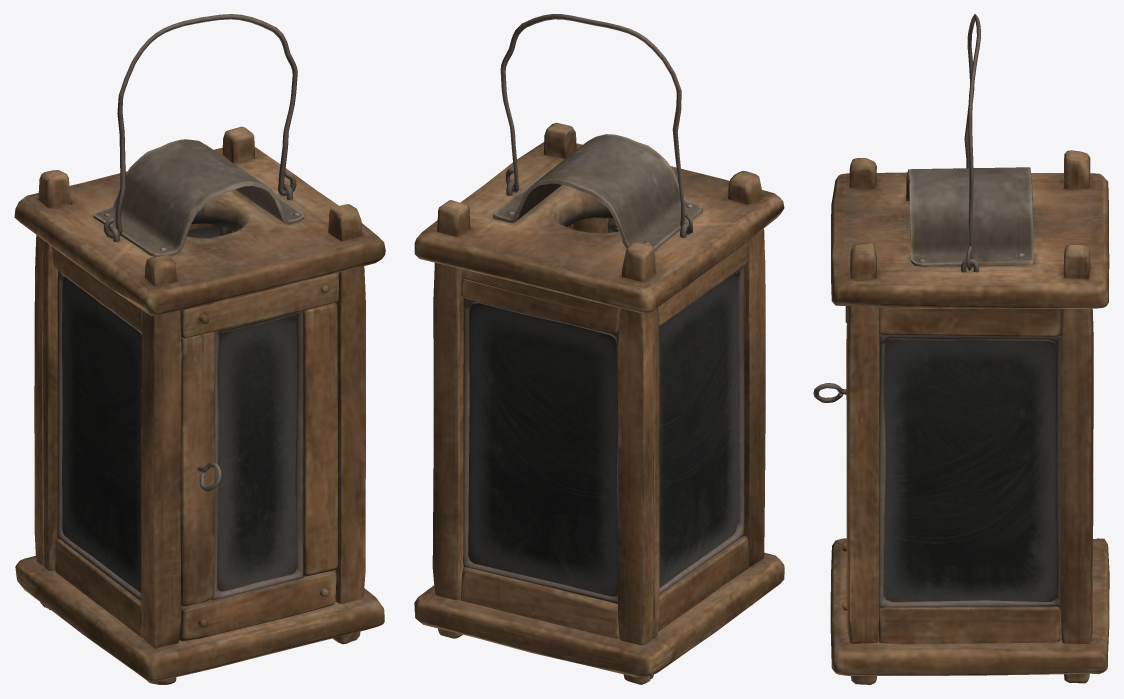
Rendered from ph_wooden_lantern_01.glb.
3 views of the same model, side by side, from view 1: azimuth 30°, elevation 25°; view 2: azimuth 150°, elevation 25°; view 3: azimuth 270°, elevation 25° (orthographic).
Parts seen in each view (by area): view 1: wooden_lantern_01, wooden_lantern_01_door, wooden_lantern_01_handle; view 2: wooden_lantern_01, wooden_lantern_01_handle, wooden_lantern_01_door; view 3: wooden_lantern_01, wooden_lantern_01_handle, wooden_lantern_01_door.
Boxes of the visible parts, left/top/right/bottom form: wooden_lantern_01: left=14, top=126, right=385, bottom=684; wooden_lantern_01_door: left=179, top=272, right=339, bottom=641; wooden_lantern_01_handle: left=103, top=14, right=297, bottom=238; wooden_lantern_01: left=414, top=122, right=784, bottom=684; wooden_lantern_01_handle: left=500, top=14, right=692, bottom=234; wooden_lantern_01_door: left=573, top=217, right=618, bottom=233; wooden_lantern_01: left=830, top=150, right=1109, bottom=684; wooden_lantern_01_handle: left=964, top=14, right=980, bottom=270; wooden_lantern_01_door: left=813, top=306, right=847, bottom=610.
Bounding box in the file's own units: 0.221 × 0.5301 × 0.2348.
Materials: 2 (2 with a texture image).
